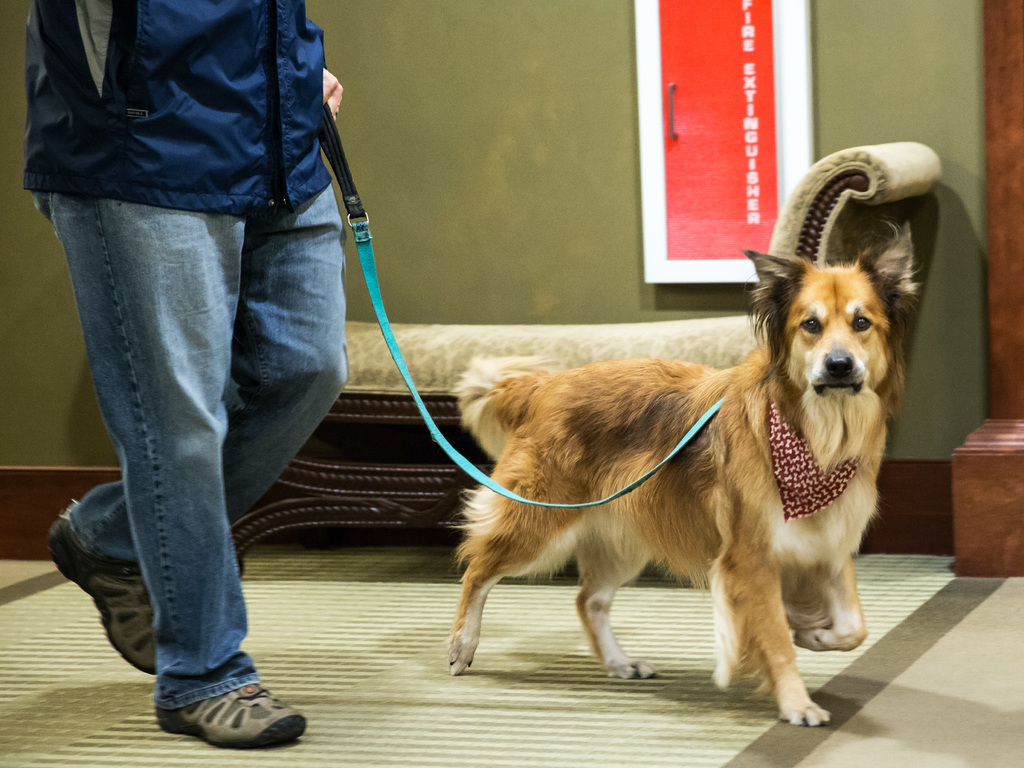Person: (22, 0, 349, 750)
